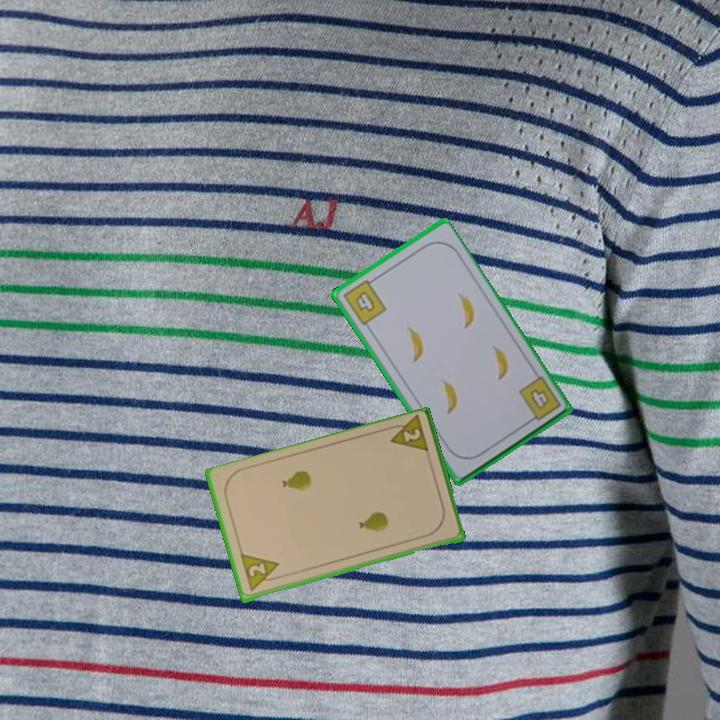2p: (383, 414, 432, 457), (237, 551, 284, 595)
4b: (339, 274, 389, 328), (515, 373, 564, 427)
